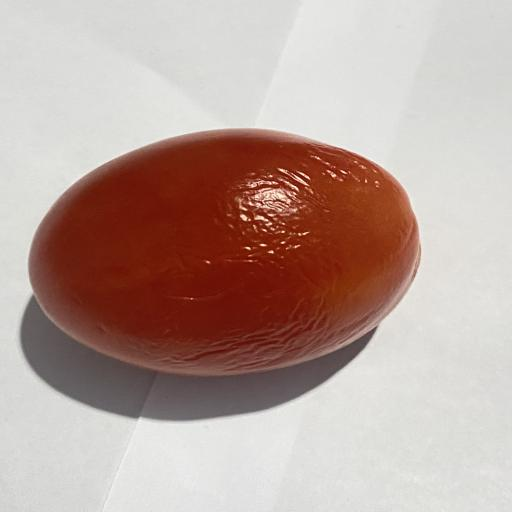spoiled: (30, 129, 420, 375)
